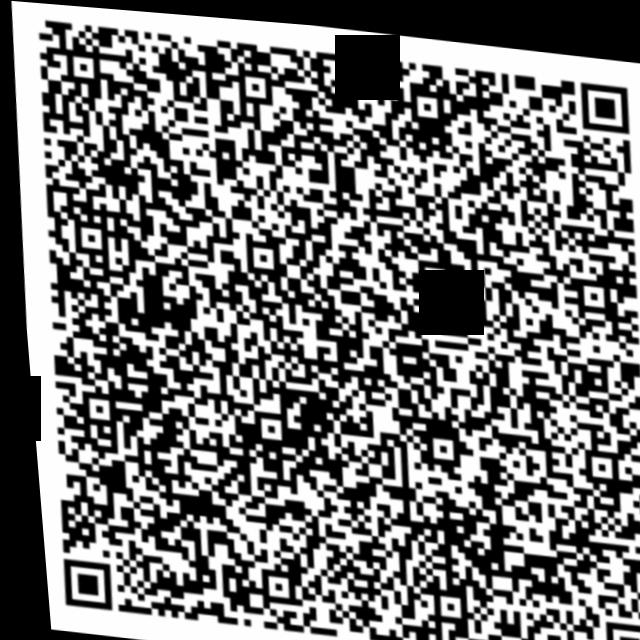QR_CODE: (0, 3, 640, 640)
